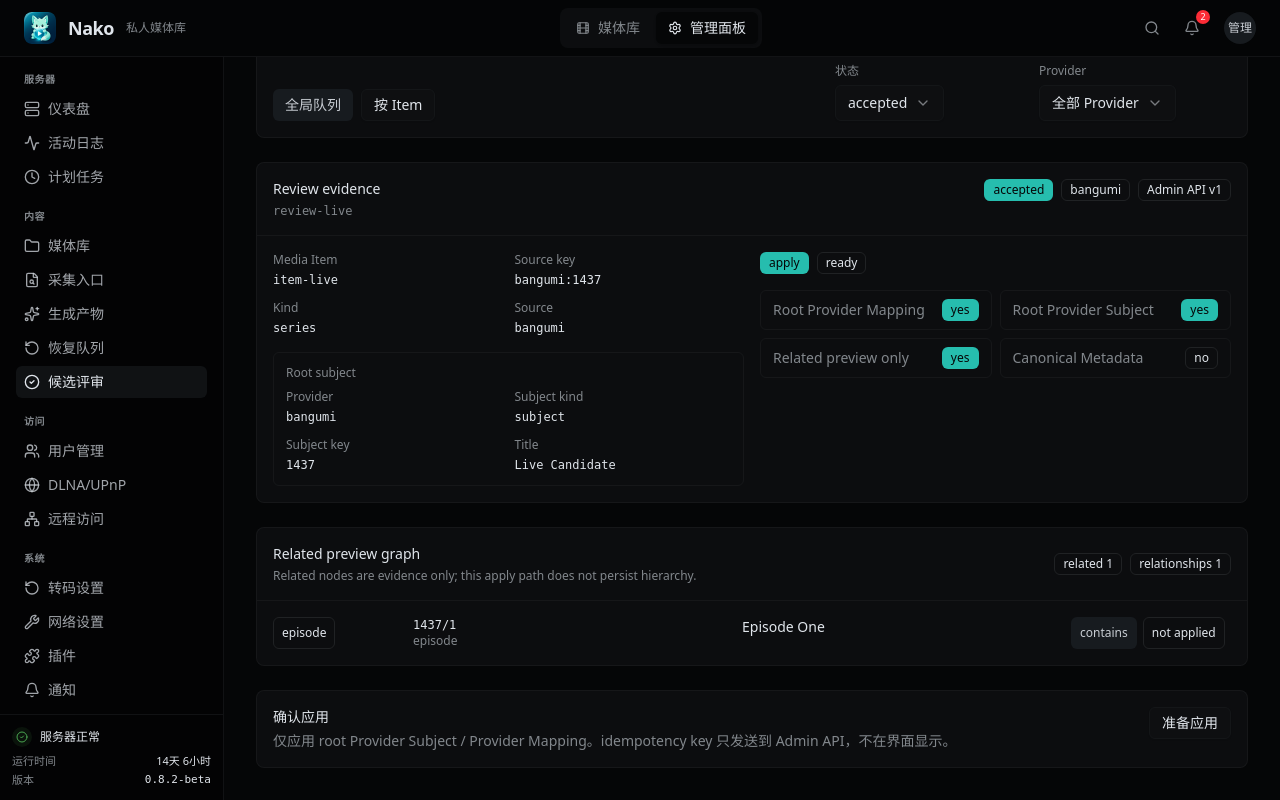
Test: route state contracts › runs live Admin metadata candidate review apply without exposing unsafe review fields
(page scrolled)
Expected: the text "review-live" is shown, [273, 204, 352, 218]
Expected: the text "Live Candidate" is shown, [514, 458, 616, 472]
Click the button "准备应用".
click(1190, 723)  # box [1149, 707, 1231, 739]
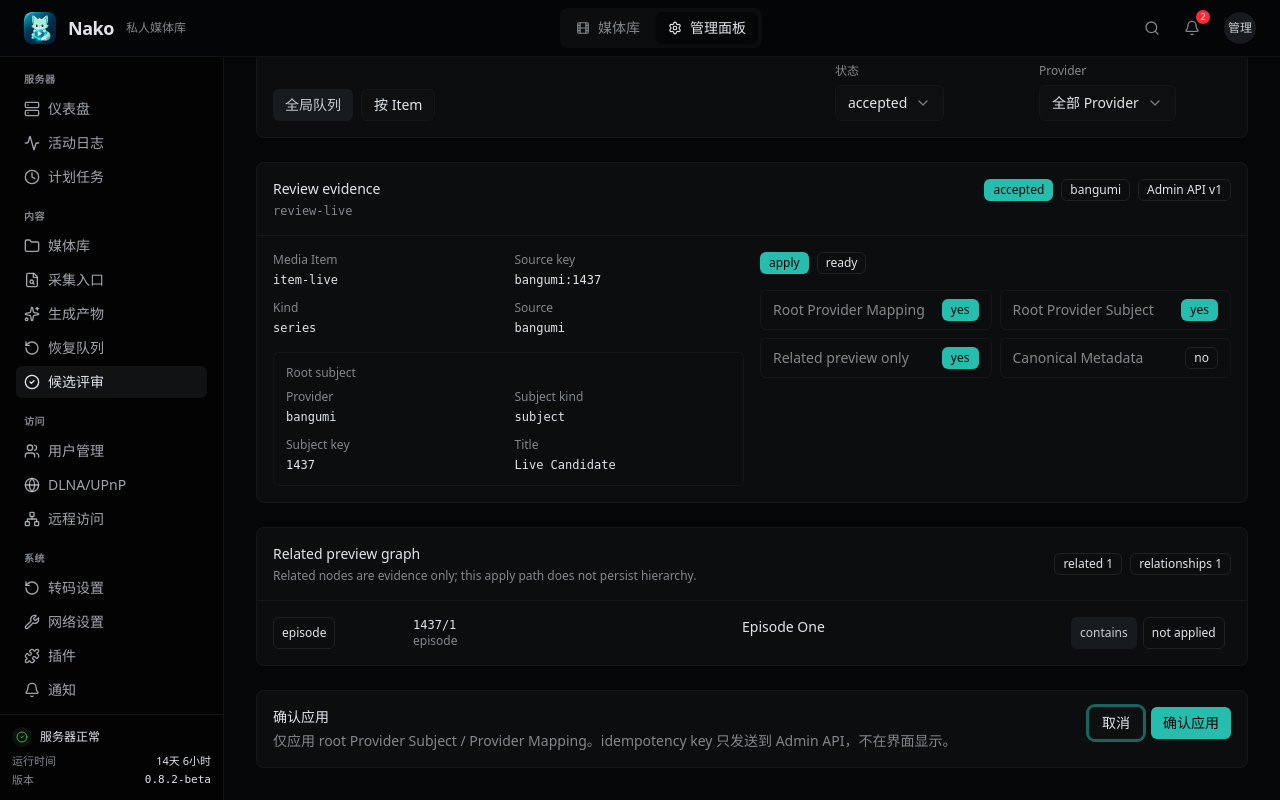
Click the button "确认应用".
click(1191, 723)  # box [1151, 707, 1231, 739]
(page scrolled)
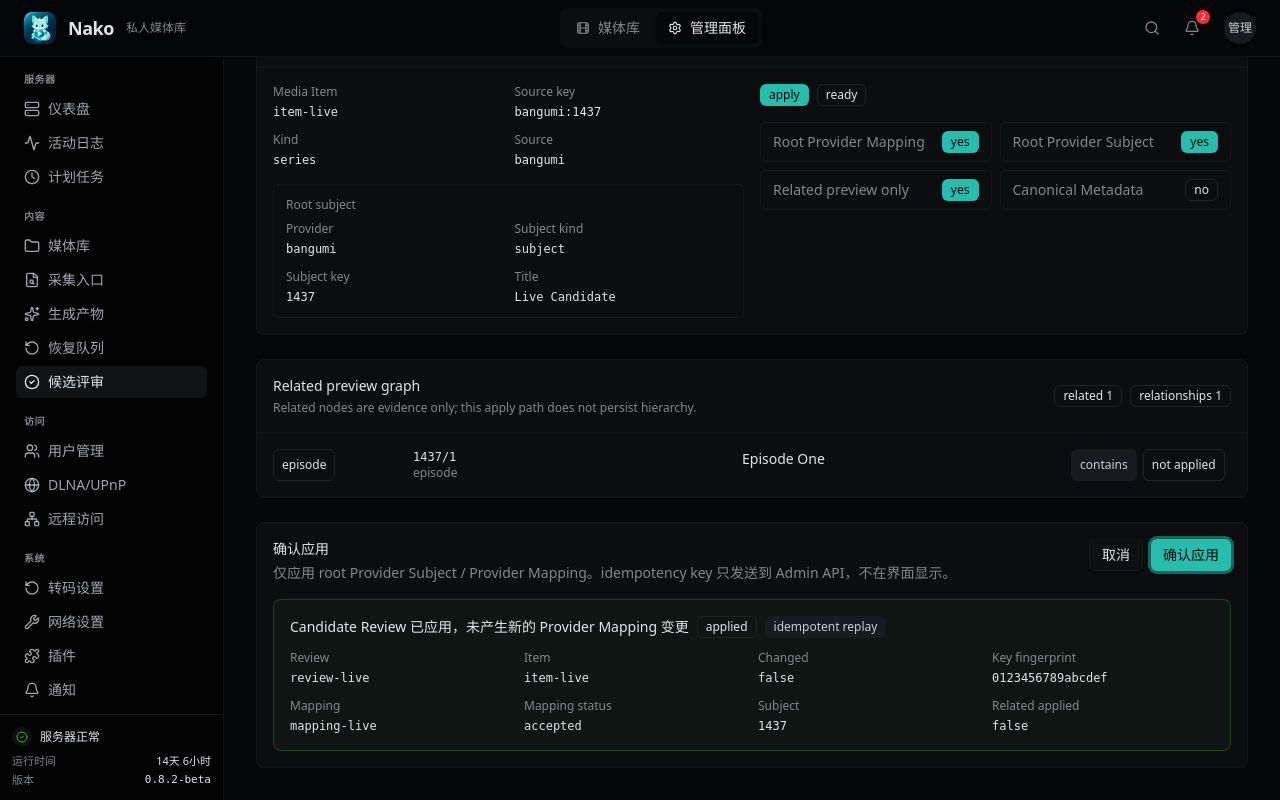
Expected: the text "Candidate Review 已应用，未产生新的 Provider Mapping 变更" is shown, [290, 617, 689, 637]
Expected: the text "idempotent replay" is shown, [764, 616, 886, 638]
Expected: the text "0123456789abcdef" is shown, [992, 671, 1108, 685]
